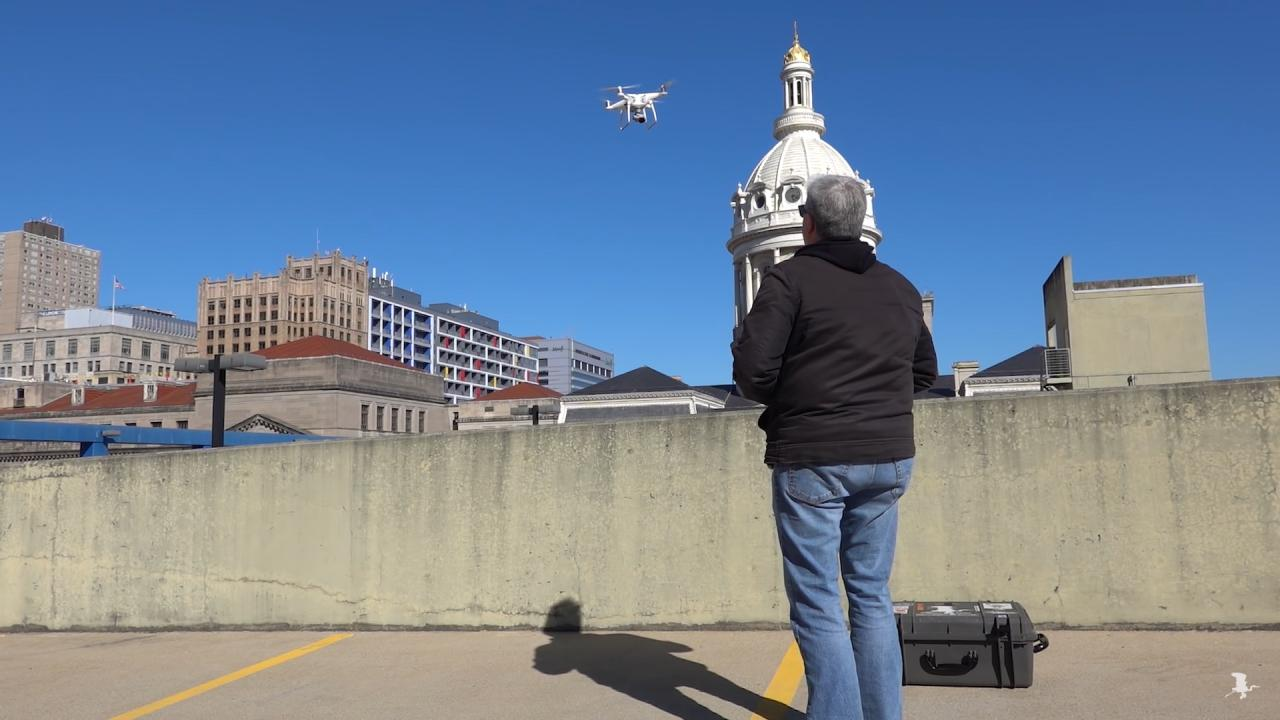Drone: (585, 65, 688, 141)
